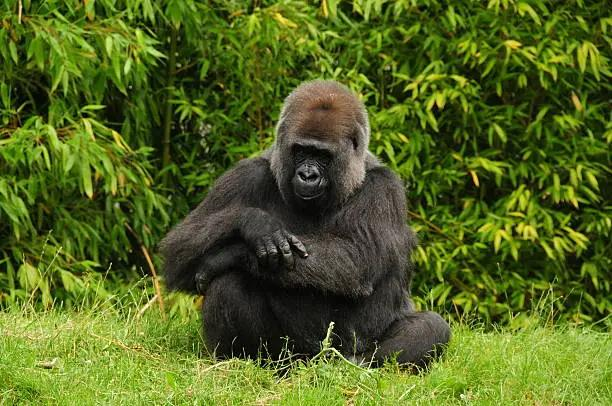gorille_Autres: (164, 66, 463, 375)
